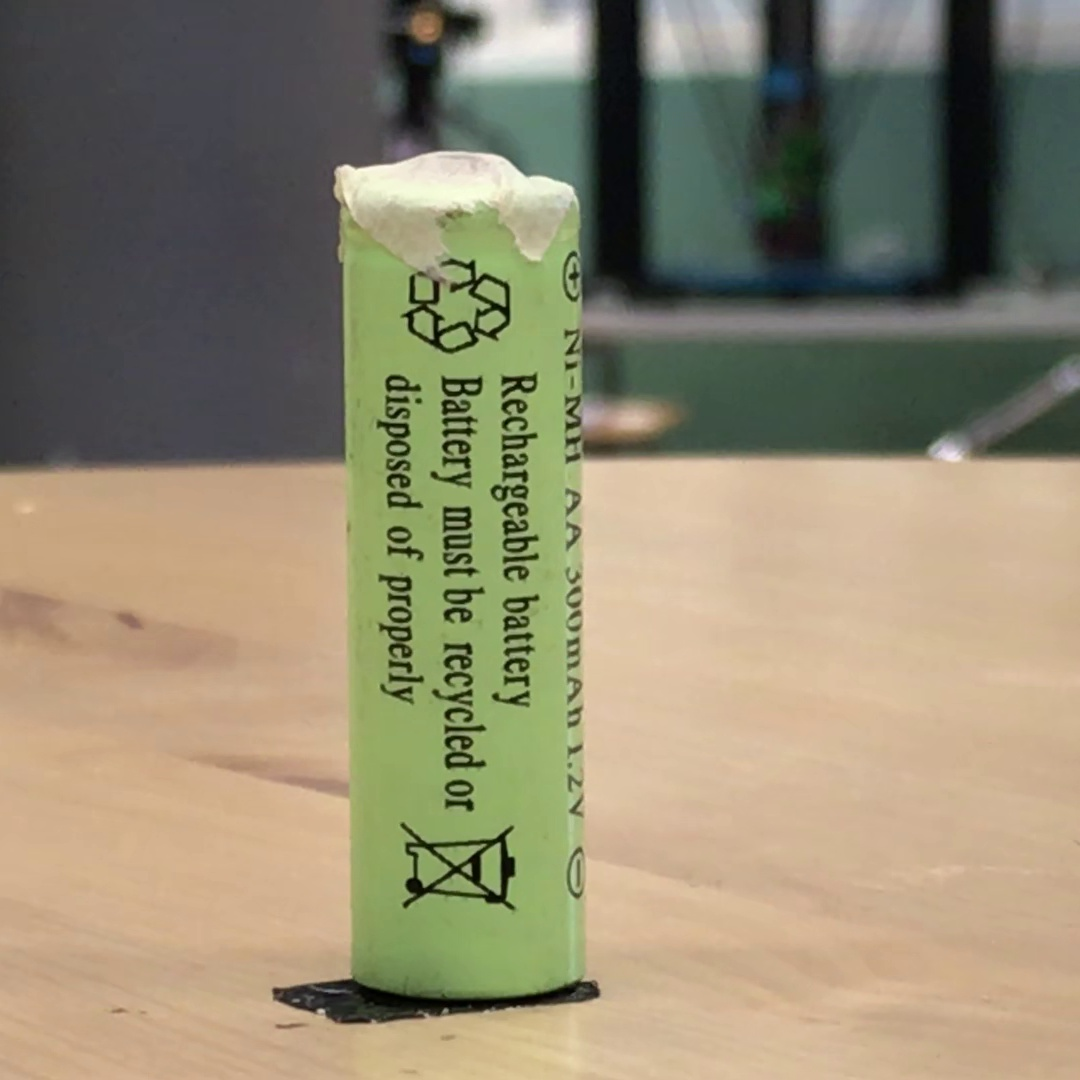keyword: (558, 708, 592, 826)
